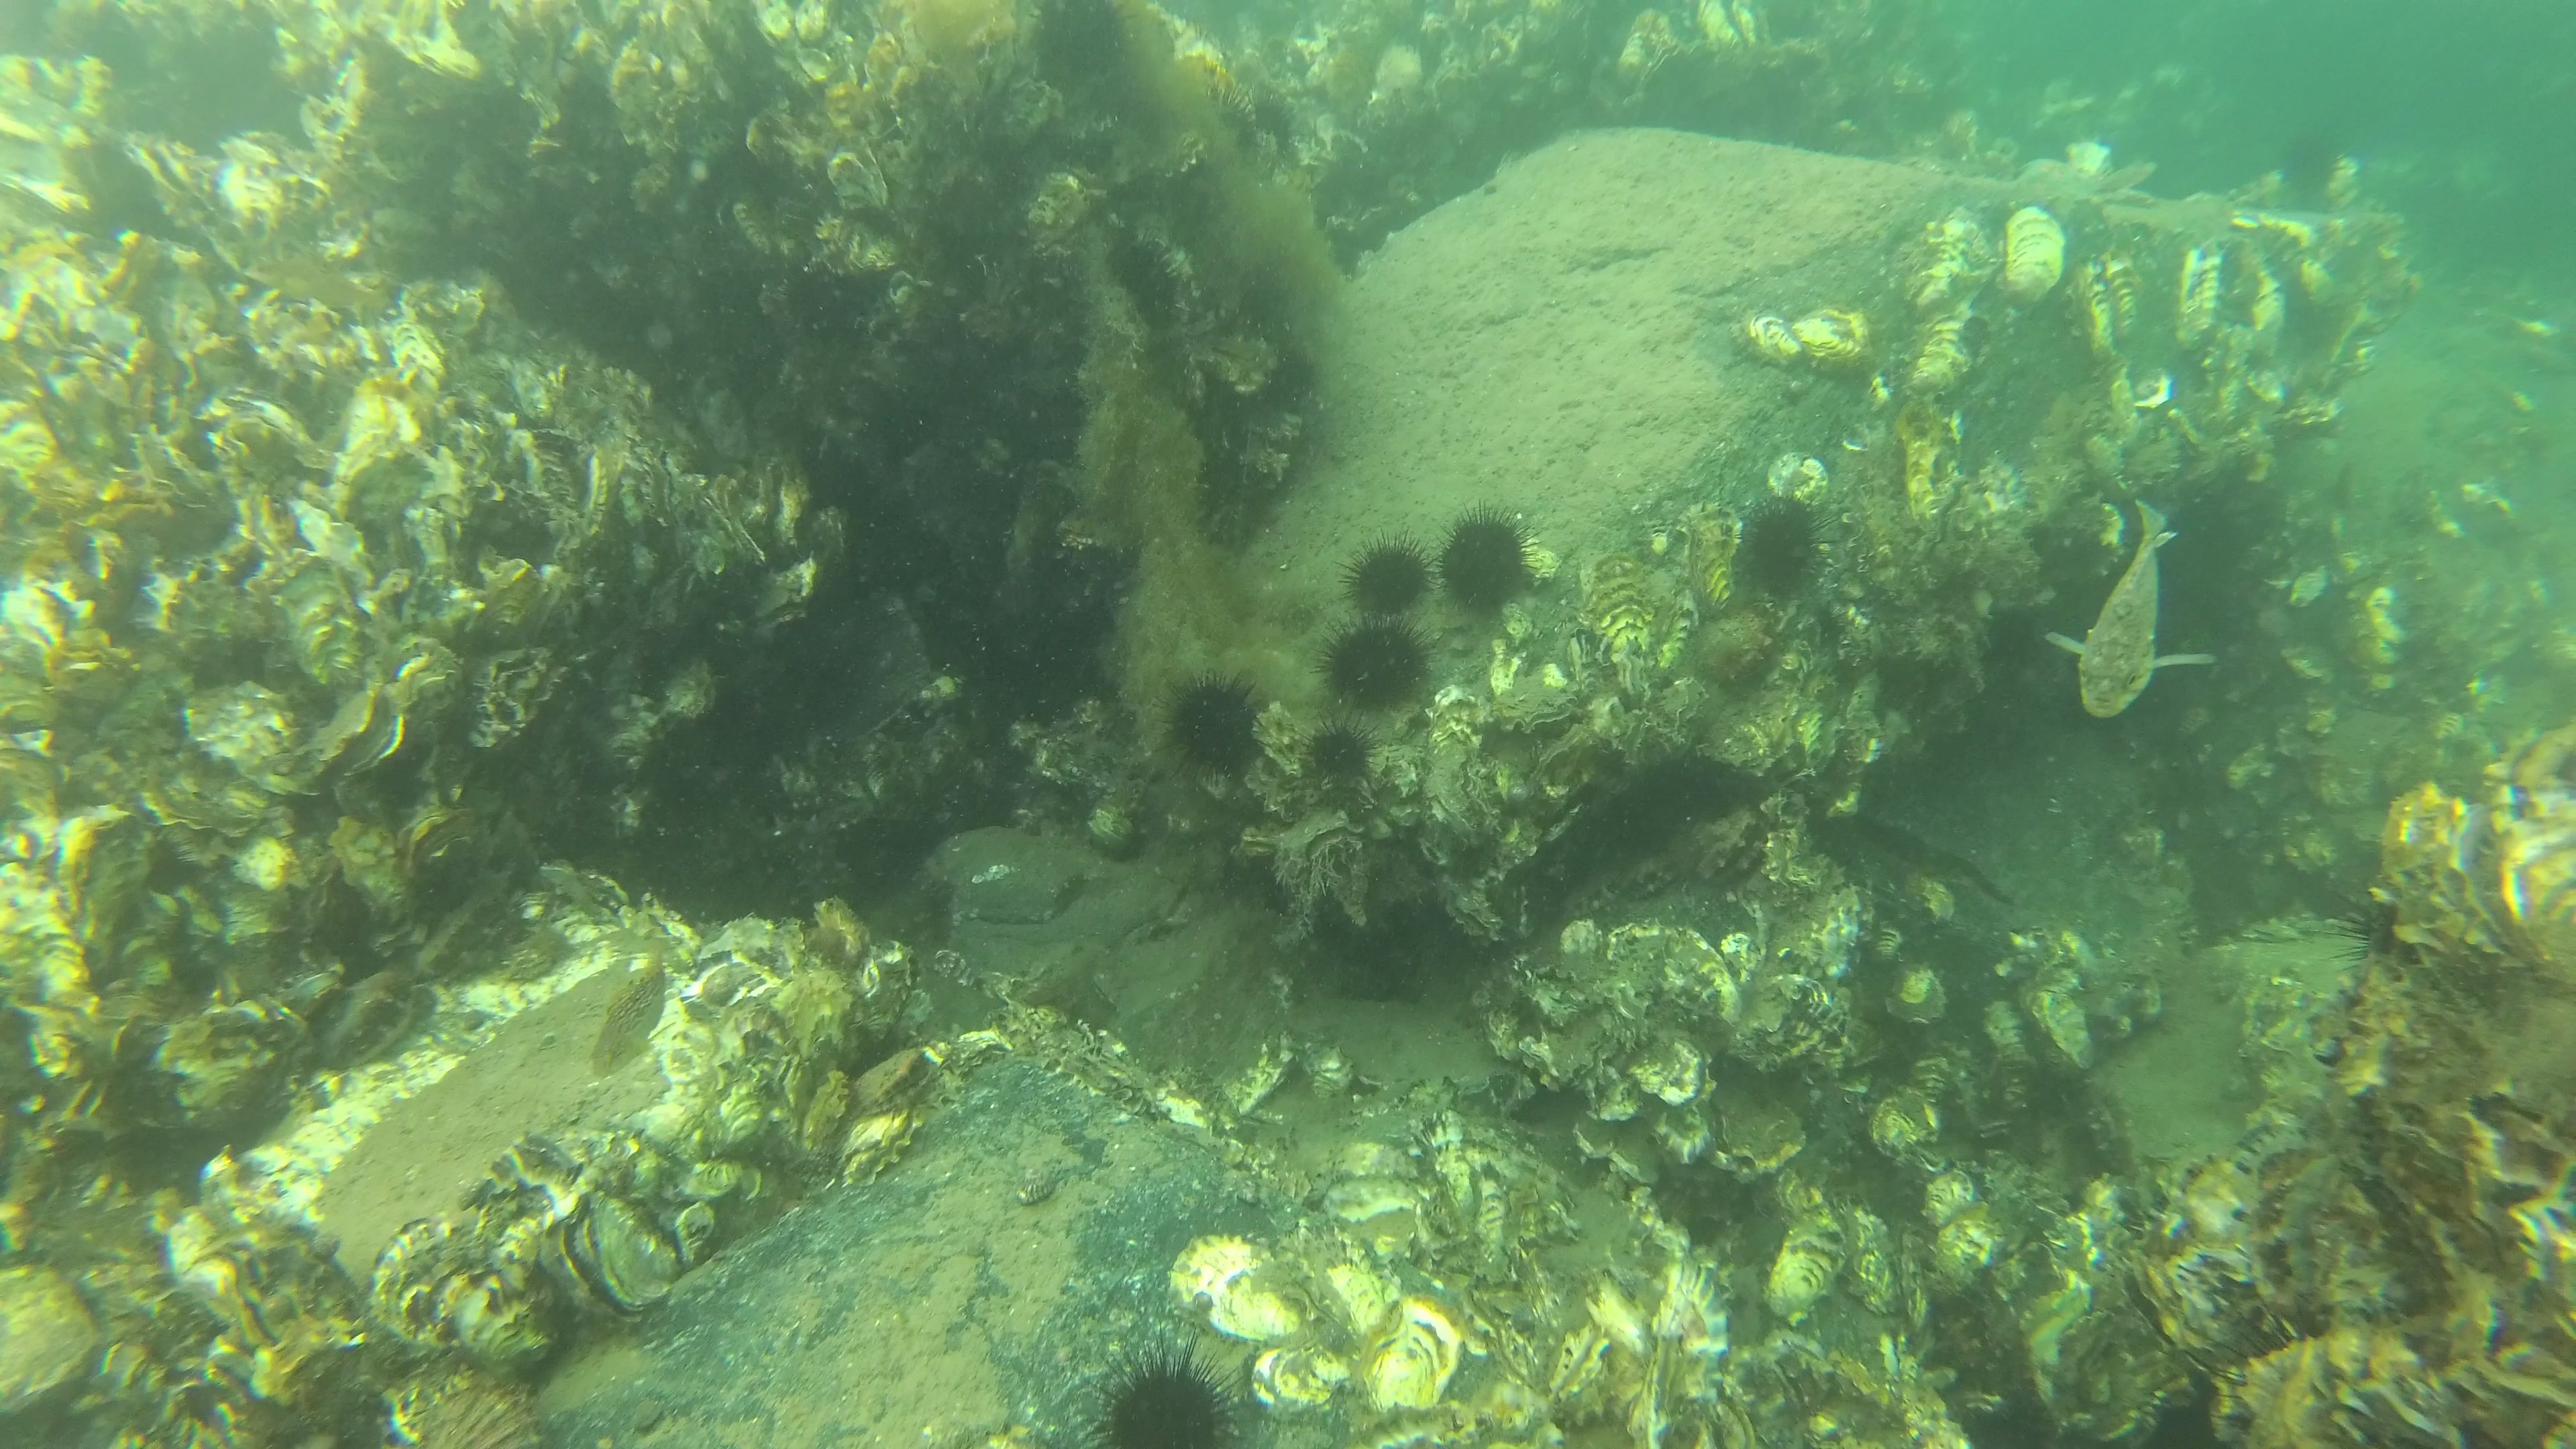echinus: (1074, 1318, 1247, 1445), (1157, 663, 1272, 787), (1430, 502, 1548, 621), (1322, 617, 1442, 713), (1732, 494, 1838, 602), (2275, 127, 2376, 216), (1346, 533, 1445, 621), (1299, 713, 1382, 796)
scallop: (425, 1380, 557, 1449), (842, 1035, 929, 1115)
